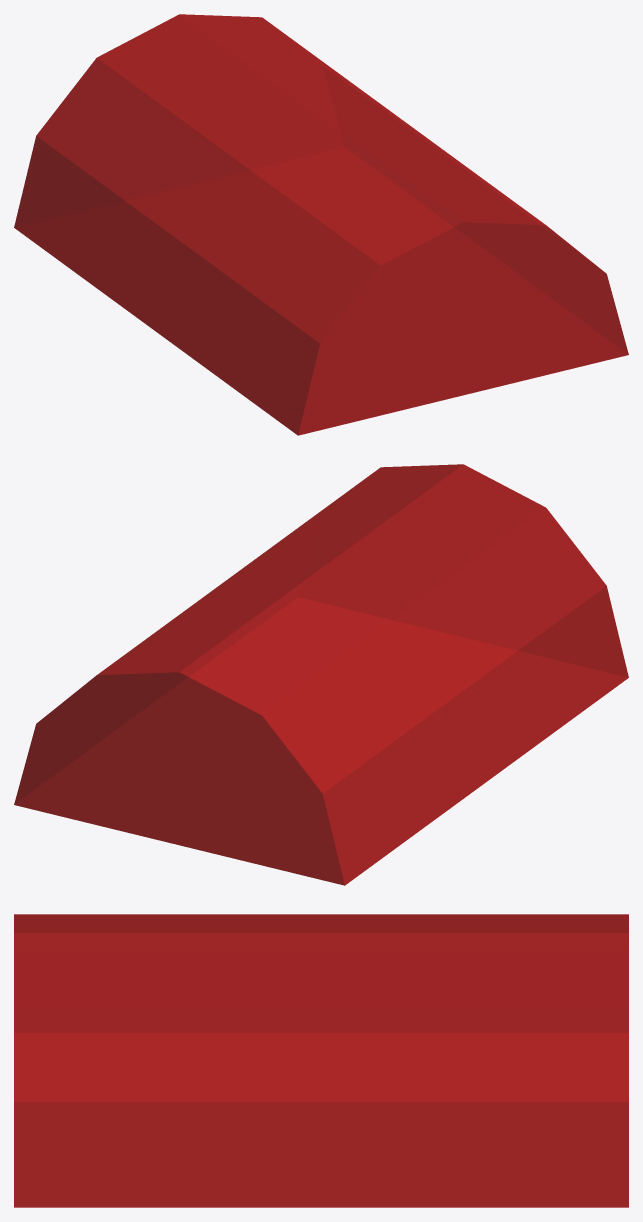
File: SM_Bld_Tent_Refugee_Closed_01_Collision.fbx
3 renders of one model, top to bottom at view 1: azimuth 30°, elevation 25°; view 2: azimuth 150°, elevation 25°; view 3: azimuth 270°, elevation 25°, orthographic. The views are drawn at different scales.
Parts seen in each view (by area): view 1: SM_Bld_Tent_Refugee_Closed_01_Collision; view 2: SM_Bld_Tent_Refugee_Closed_01_Collision; view 3: SM_Bld_Tent_Refugee_Closed_01_Collision.
Boxes of the visible parts, <box> form: SM_Bld_Tent_Refugee_Closed_01_Collision: <box>14,14,628,435</box>; SM_Bld_Tent_Refugee_Closed_01_Collision: <box>14,464,628,885</box>; SM_Bld_Tent_Refugee_Closed_01_Collision: <box>14,914,628,1207</box>.
Size of the model in its own units: 577 by 289 by 858.
